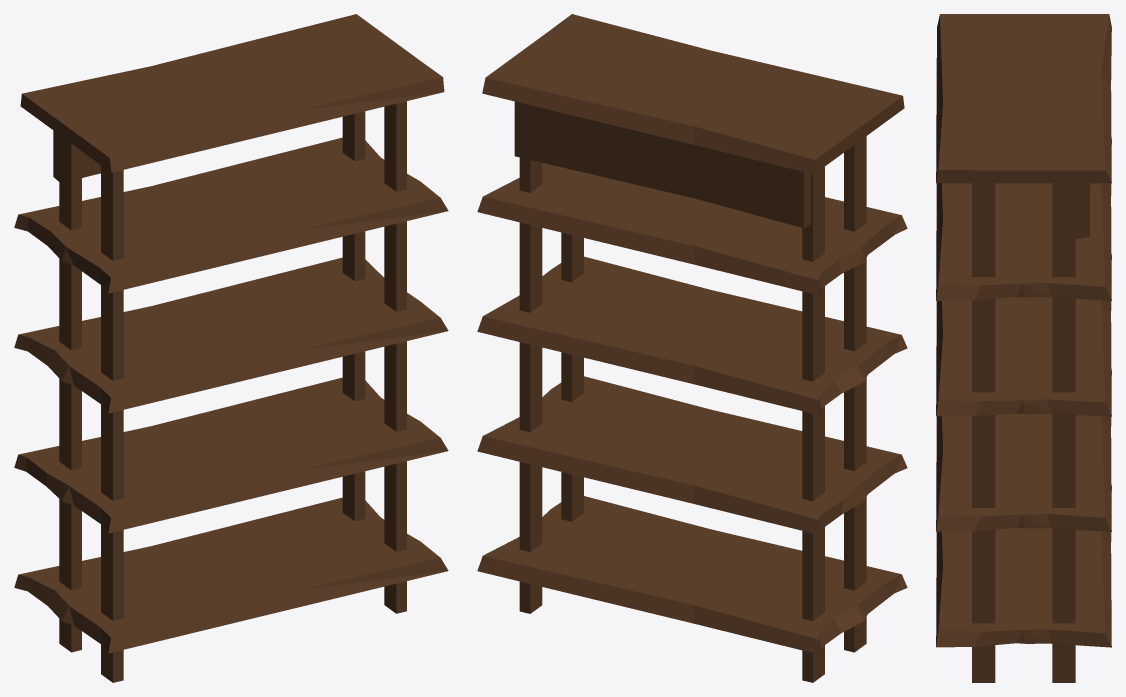
The model's file is Стеллаж.fbx.
3 views of the same model, side by side, from view 1: azimuth 30°, elevation 25°; view 2: azimuth 150°, elevation 25°; view 3: azimuth 270°, elevation 25° (orthographic). The views are drawn at different scales.
Visible parts, largest first — view 1: Cube.008; view 2: Cube.008; view 3: Cube.008.
Part boxes in pixels (x1=…): Cube.008: x1=14, y1=14, x2=448, y2=682; Cube.008: x1=477, y1=14, x2=907, y2=682; Cube.008: x1=936, y1=14, x2=1111, y2=682.
Bounding box in the file's own units: 232 × 350 × 107.
